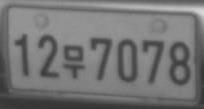0: (116, 38, 138, 83)
1: (12, 33, 32, 75)
2: (38, 34, 59, 78)
7: (89, 36, 112, 81), (142, 39, 165, 84)
8: (168, 41, 191, 85)
무: (61, 43, 85, 78)
